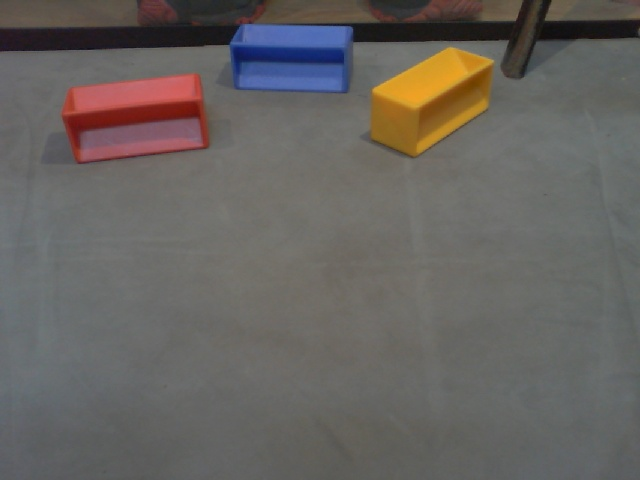BlueSample: (226, 20, 356, 98)
RedSample: (60, 71, 212, 165)
YellowSample: (364, 46, 498, 159)
